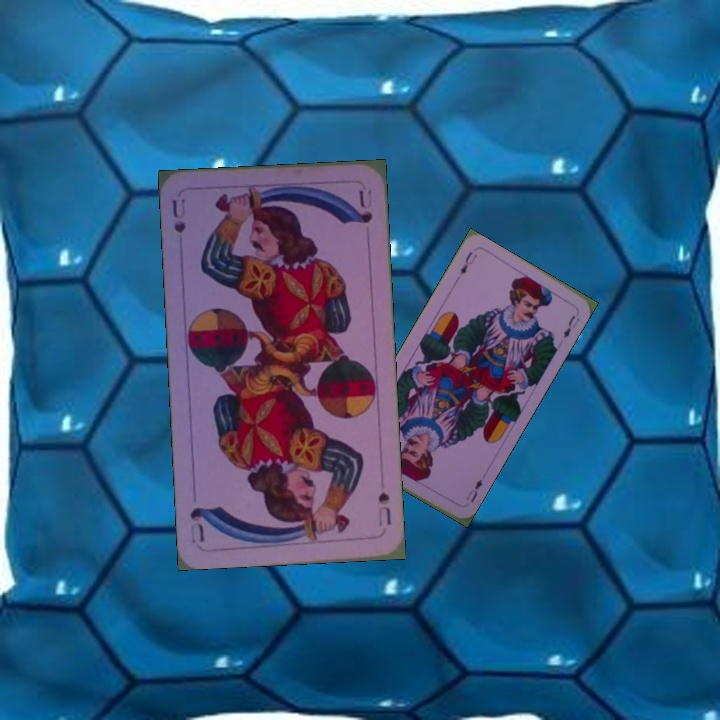EU: (456, 247, 480, 277), (462, 475, 485, 505)
SU: (168, 194, 189, 236), (374, 488, 394, 527)
